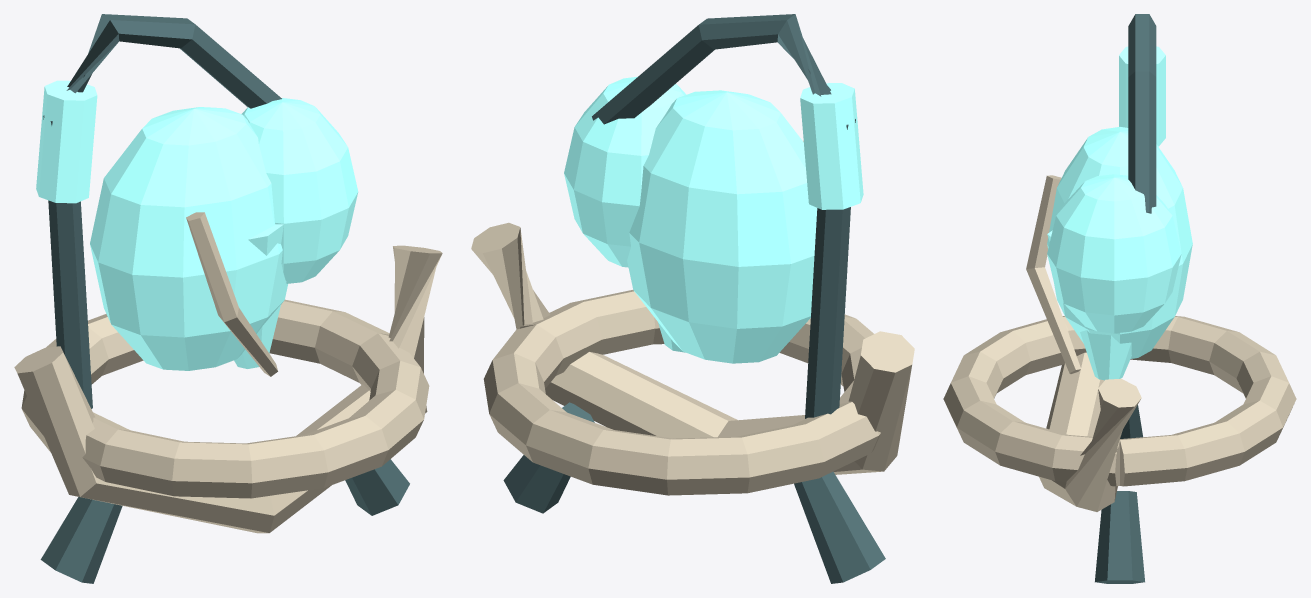
File: marker_health.glb
The picture shows the model from 3 angles, left to right: view 1: azimuth 30°, elevation 25°; view 2: azimuth 150°, elevation 25°; view 3: azimuth 270°, elevation 25°; orthographic projection. The views are drawn at different scales.
Visible parts, largest first — view 1: marker_health_teal, marker_health_bone, marker_health_iron; view 2: marker_health_teal, marker_health_bone, marker_health_iron; view 3: marker_health_bone, marker_health_teal, marker_health_iron.
Boxes of the visible parts, x1=… form: marker_health_teal: x1=36, y1=80, x2=358, y2=370; marker_health_bone: x1=14, y1=212, x2=442, y2=533; marker_health_iron: x1=40, y1=14, x2=409, y2=583; marker_health_teal: x1=564, y1=76, x2=863, y2=363; marker_health_bone: x1=471, y1=140, x2=914, y2=495; marker_health_iron: x1=503, y1=14, x2=885, y2=583; marker_health_bone: x1=943, y1=175, x2=1296, y2=511; marker_health_teal: x1=1047, y1=46, x2=1192, y2=380; marker_health_iron: x1=1095, y1=14, x2=1156, y2=583.
Size of the model in its own units: 0.7485 by 0.9194 by 0.63.
